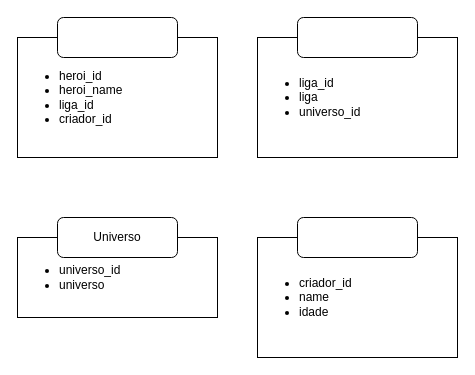
Image size: 475x375. Some labels were removed from this diagram. The centre of each missing label's shape, as x and y in pixels:
Criador: the point at 357,237
Heroi: the point at 117,37
Liga: the point at 357,37
